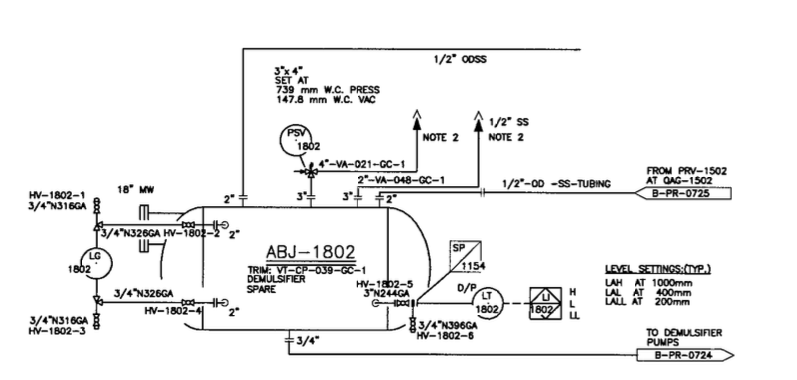Instrument-offset: (66, 245, 118, 281), (278, 122, 322, 158), (467, 282, 505, 320)
Instrument-square-offset: (522, 284, 565, 324)
